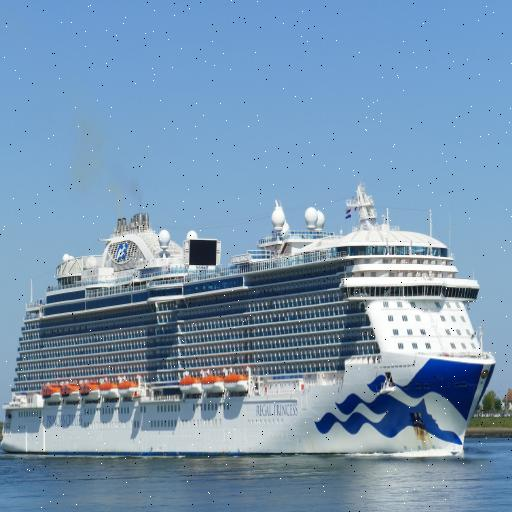cruises: (1, 182, 499, 464)
